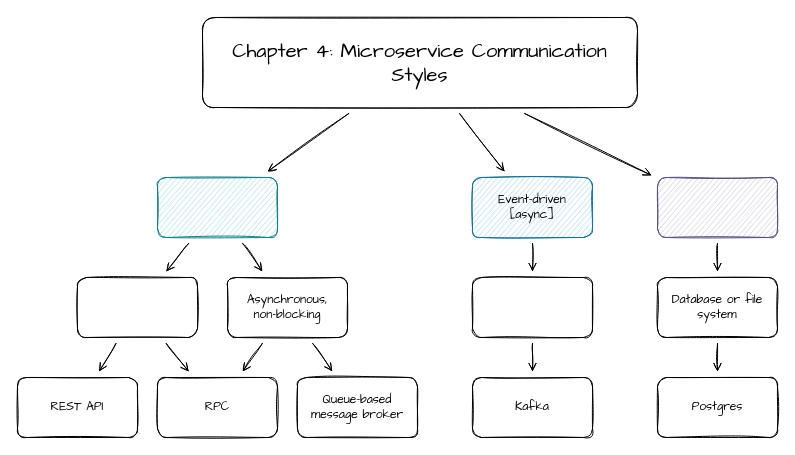
The diagram is 795 pixels wide and 455 high, and some of its shapes have lost their labels. Each missing label, with the centre of its shape:
"Common data [async]" goes at (717,207).
"Request-response" goes at (217,207).
"Synchronous, blocking" goes at (137,307).
"Topic-based message broker" goes at (532,307).
